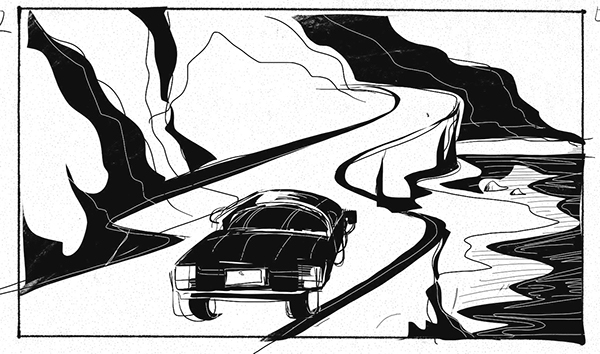car: (168, 190, 369, 328)
